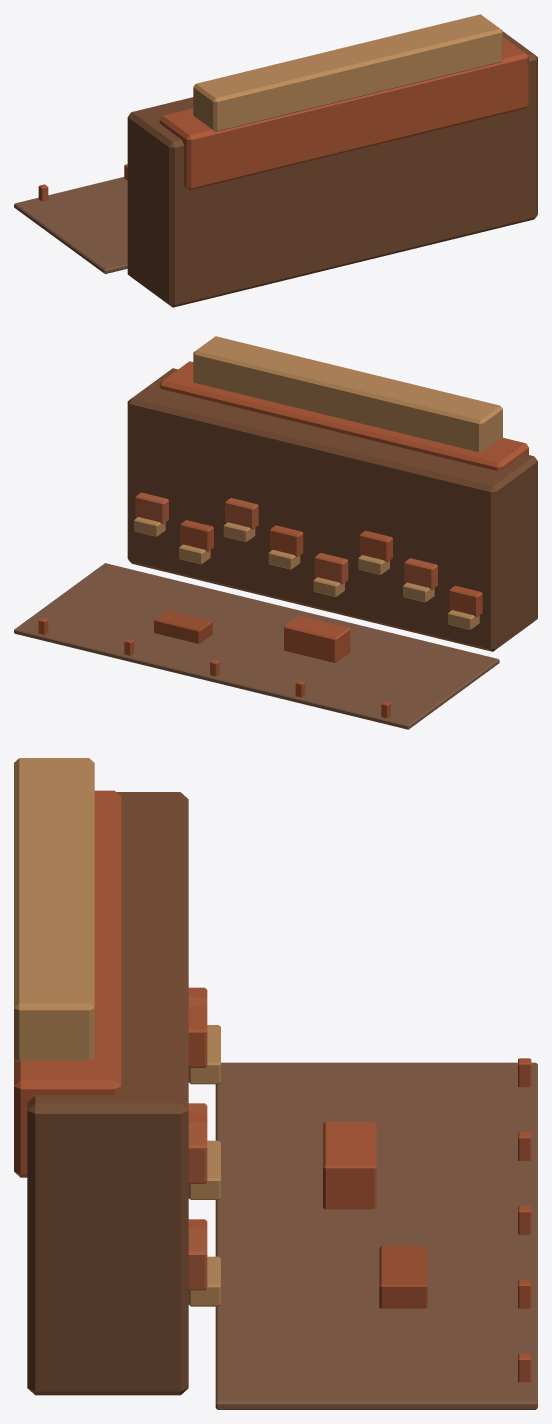
The model's file is QuarryFace.glb.
The picture shows the model from 3 angles, top to bottom: view 1: azimuth 30°, elevation 25°; view 2: azimuth 150°, elevation 25°; view 3: azimuth 270°, elevation 25°; orthographic projection. The views are drawn at different scales.
Visible parts, largest first — view 1: Body; view 2: Body; view 3: Body.
Boxes of the visible parts, x1=… form: Body: x1=14, y1=14, x2=537, y2=307; Body: x1=14, y1=336, x2=537, y2=729; Body: x1=14, y1=758, x2=537, y2=1409.
Size of what is drawn, in the model's own units: 30 by 14.77 by 19.5.
